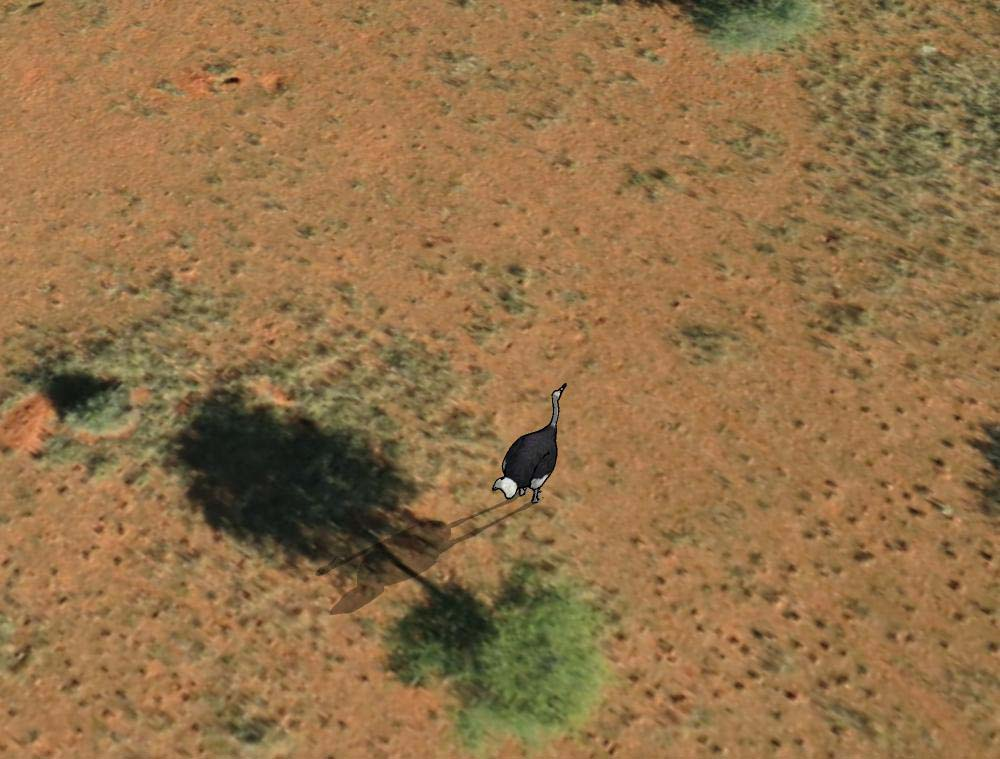springbok: (491, 381, 575, 509)
